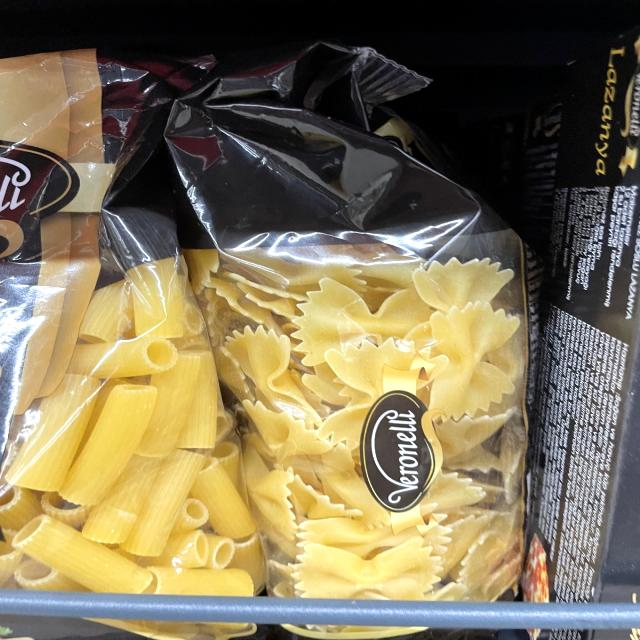farfalle pasta: (217, 237, 543, 640)
